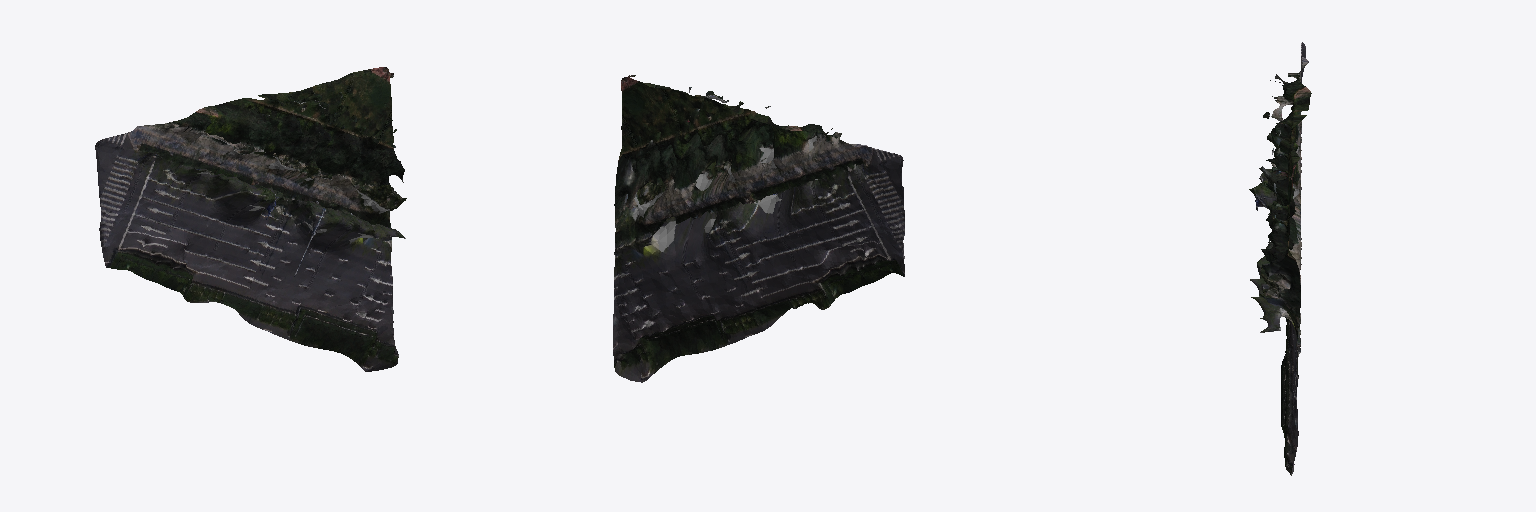
The picture shows the model from 3 angles: view 1: azimuth 30°, elevation 25°; view 2: azimuth 150°, elevation 25°; view 3: azimuth 270°, elevation 25°; orthographic projection.
Bounding box in the file's own units: 61.57 × 60.3 × 11.41.
Materials: 2 (1 with a texture image).